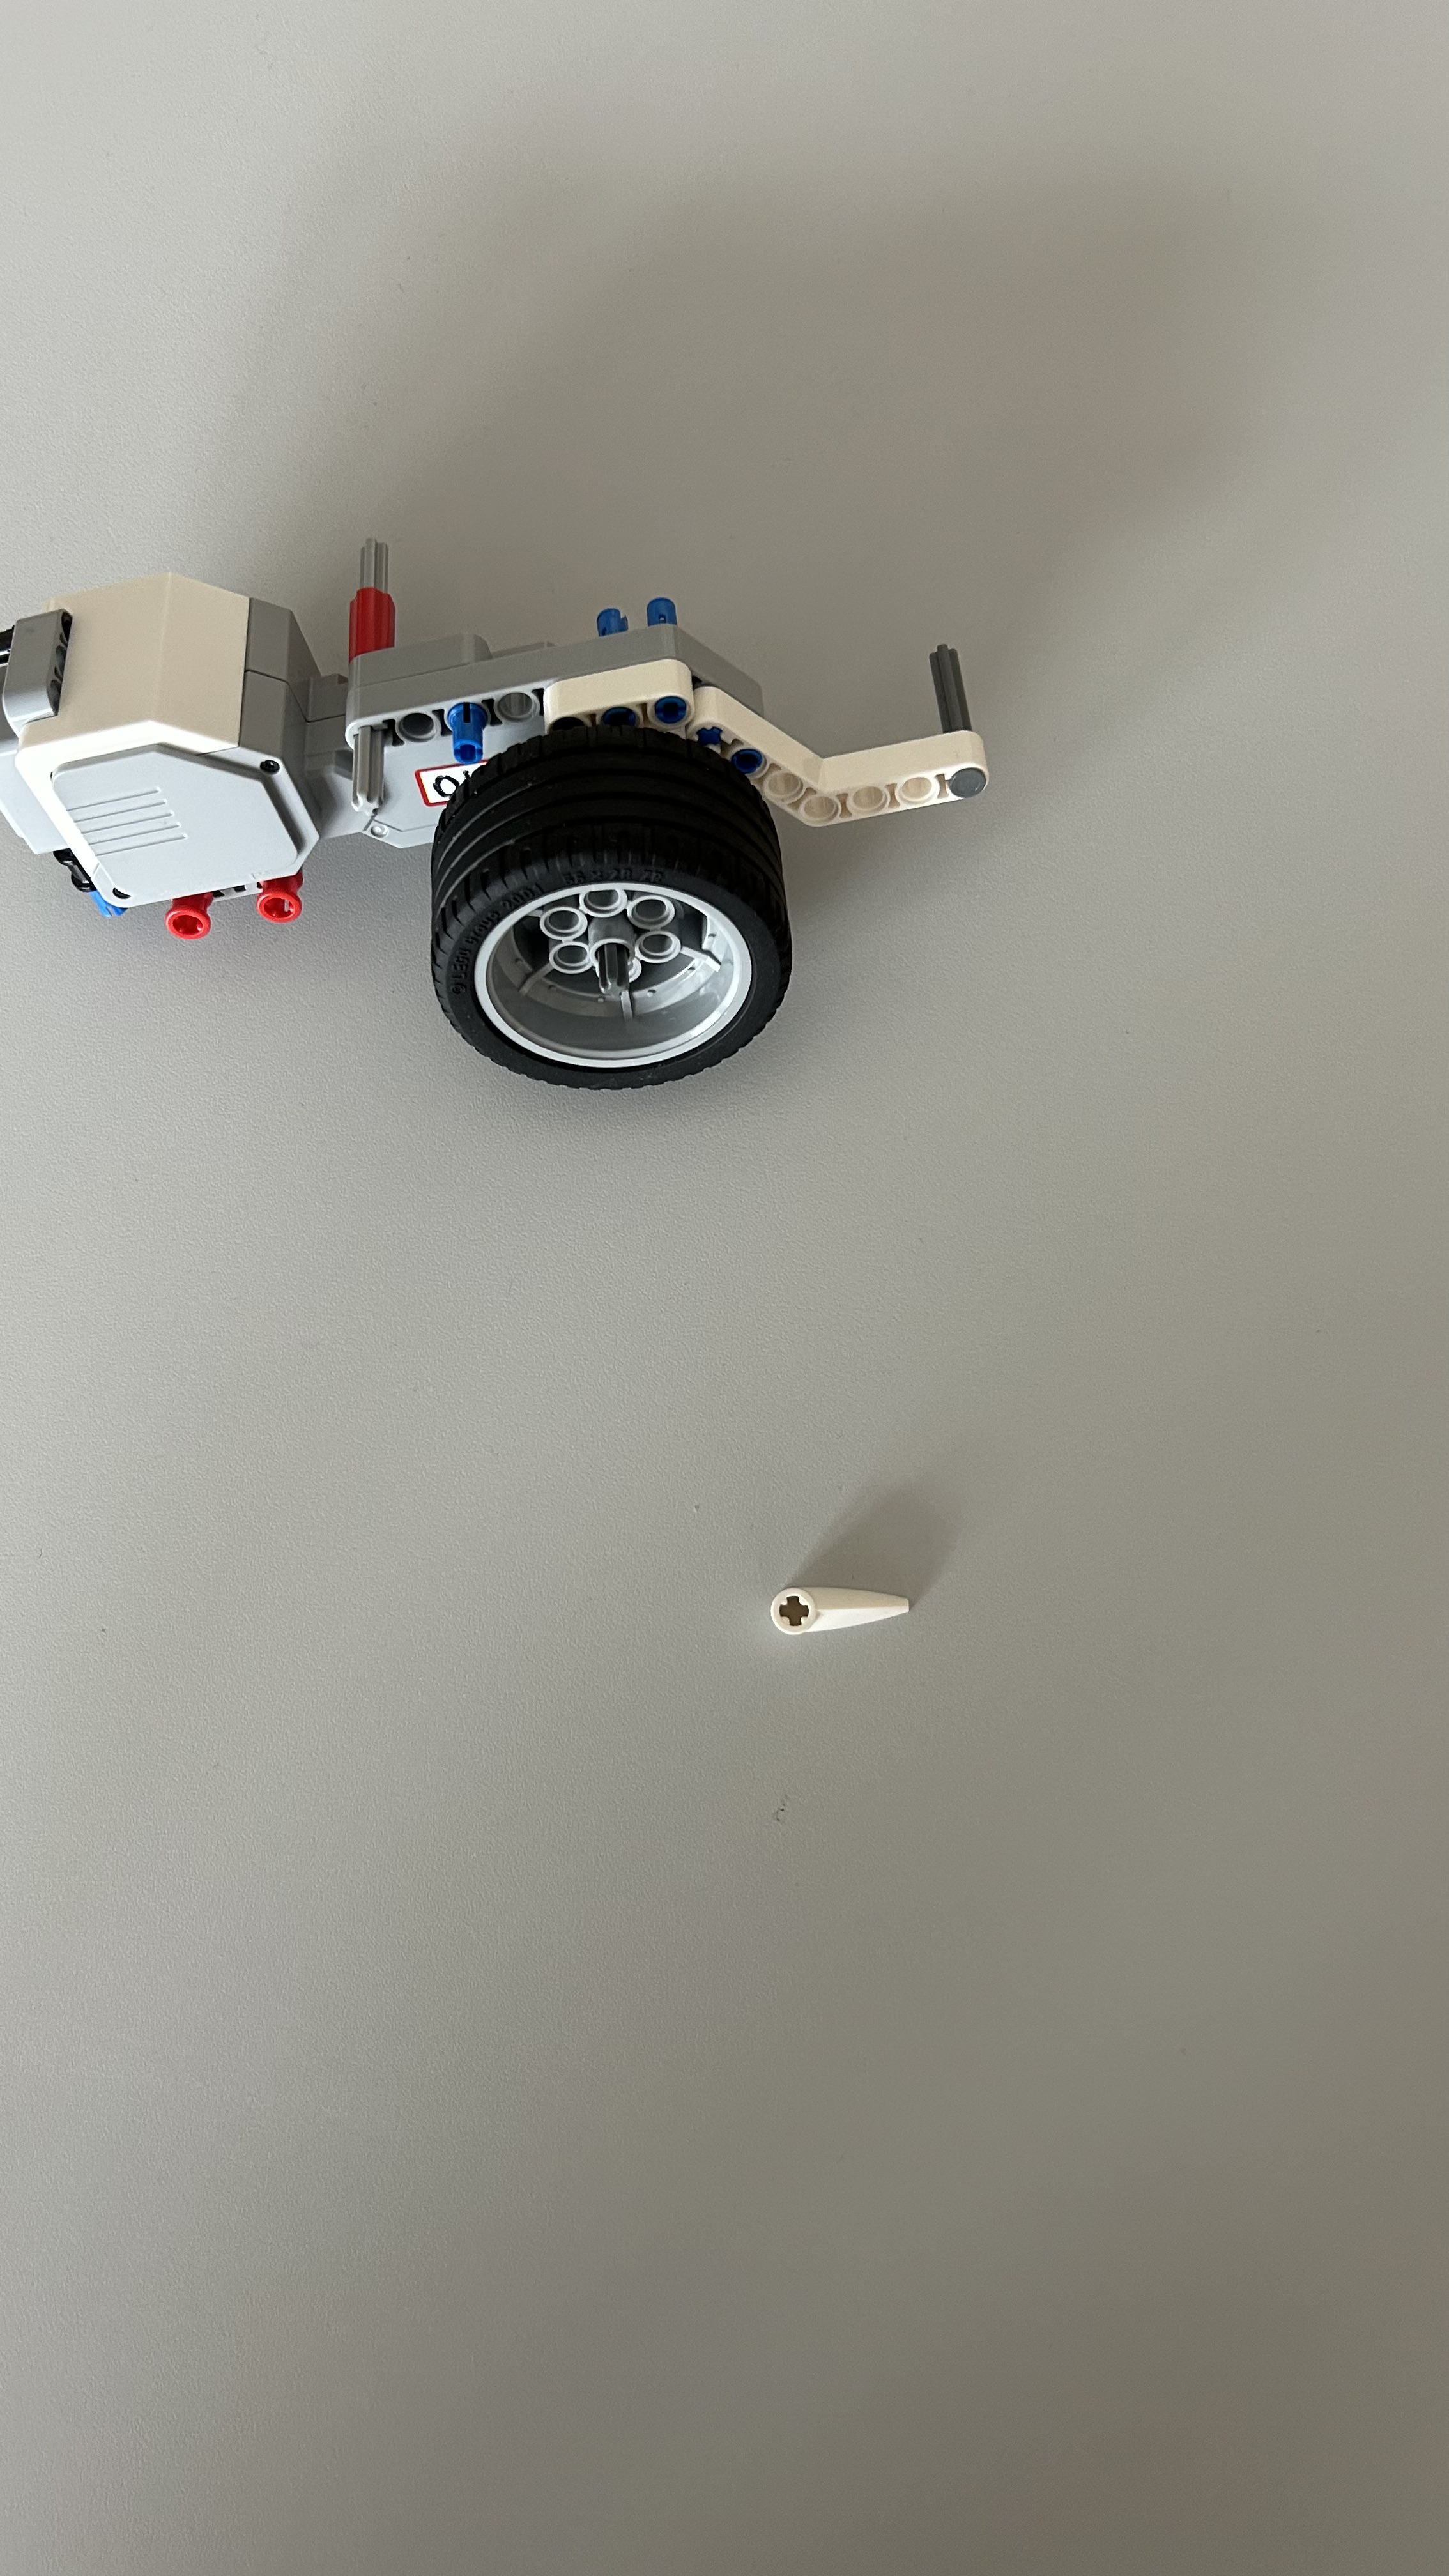white3: (757, 1562, 920, 1651)
